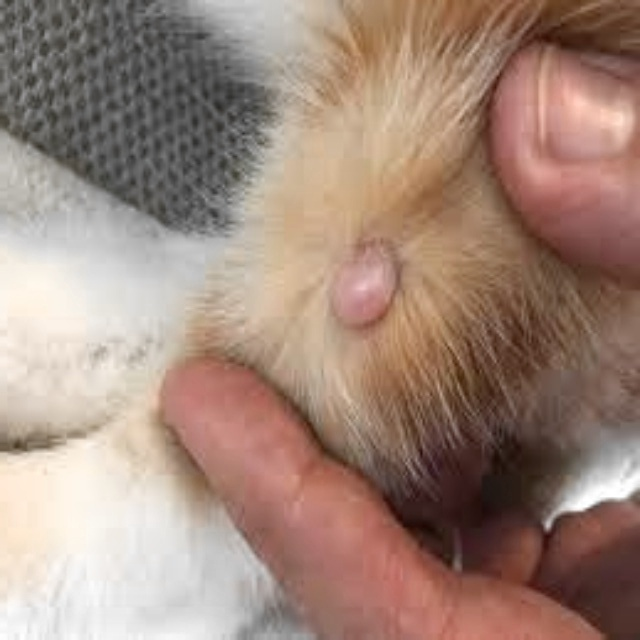lump_and_bump: (329, 244, 402, 326)
